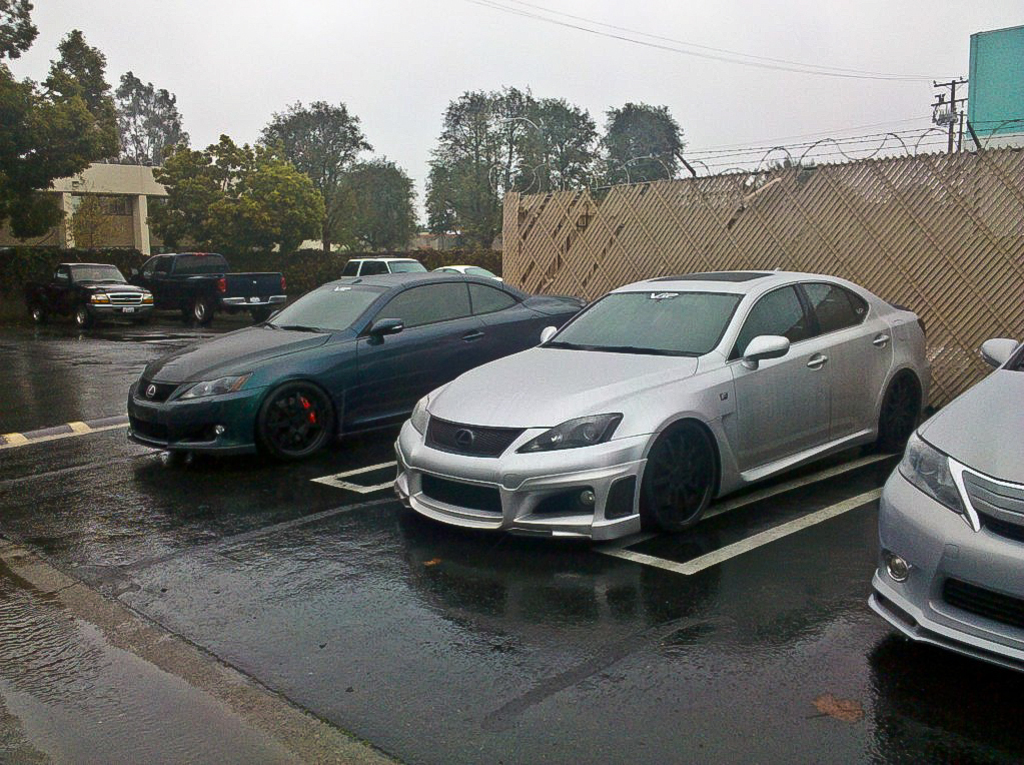Car: (396, 266, 931, 518), (127, 269, 588, 470), (867, 328, 1022, 664), (143, 253, 293, 323), (40, 258, 148, 323), (347, 256, 423, 273), (444, 264, 498, 280)
